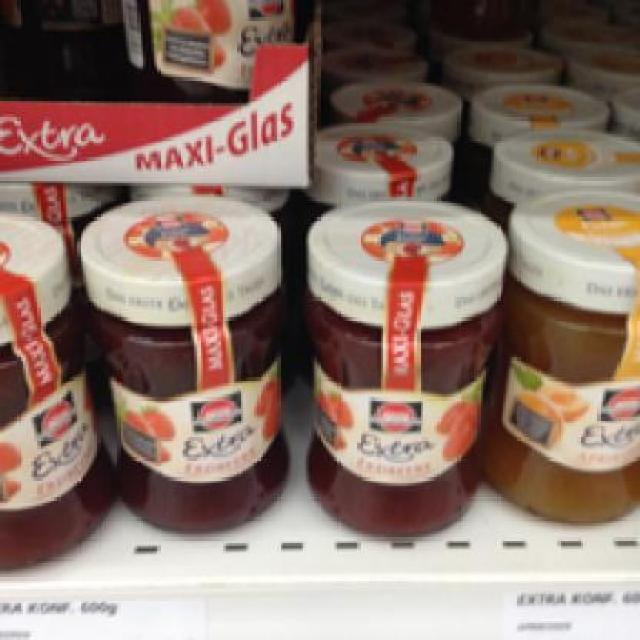Jam: (73, 188, 290, 532), (303, 194, 503, 537), (485, 189, 638, 520), (0, 207, 112, 569)
